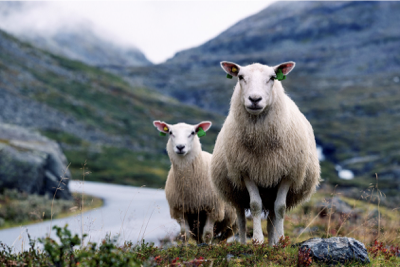koyun: (214, 61, 321, 245), (153, 119, 220, 245)
